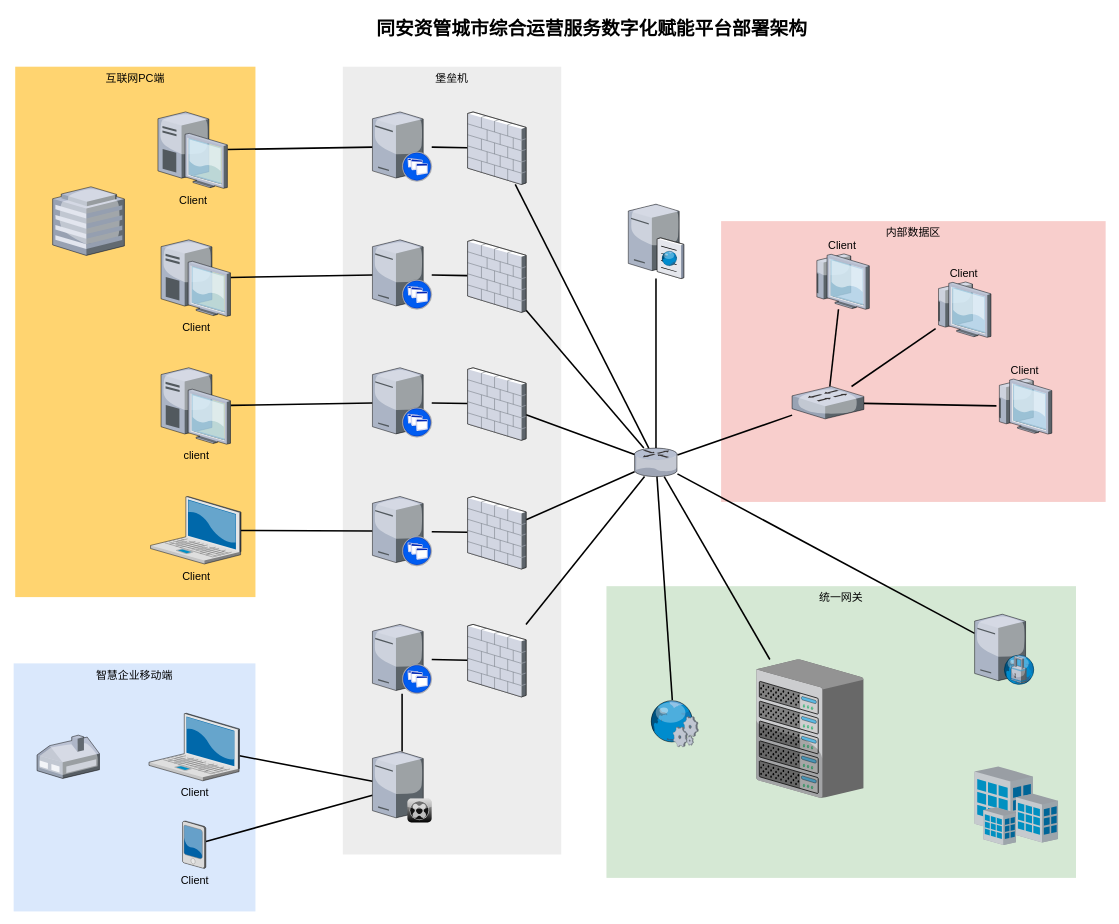
Some shapes in this 1119 by 924 pixel diagram are drawn without their labels. Here are the shapes that lost their labels. From the top down, the centre of each, then its label:
At pixel 655 240: "Web Server".
At pixel 1004 649: "Secure Server".
At pixel 673 723: "Web service".
At pixel 809 728: "DNS".
